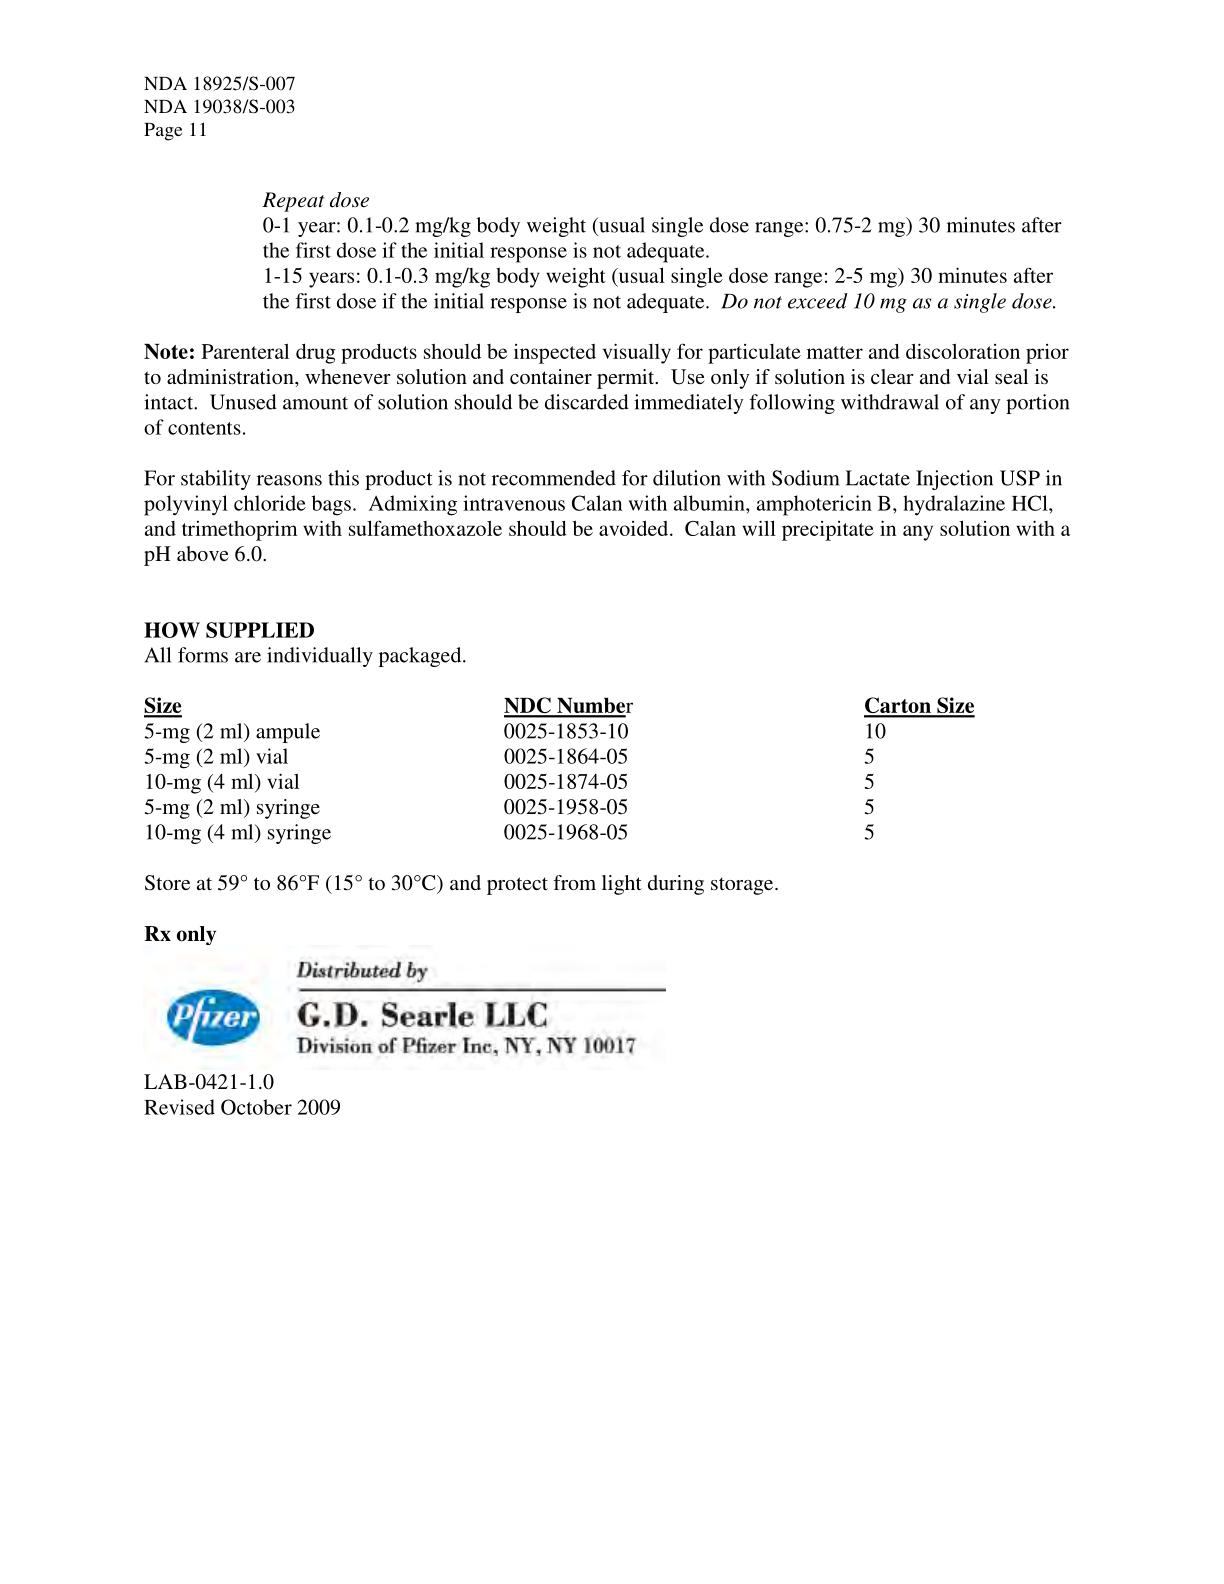nolines: (141, 693, 975, 846)
